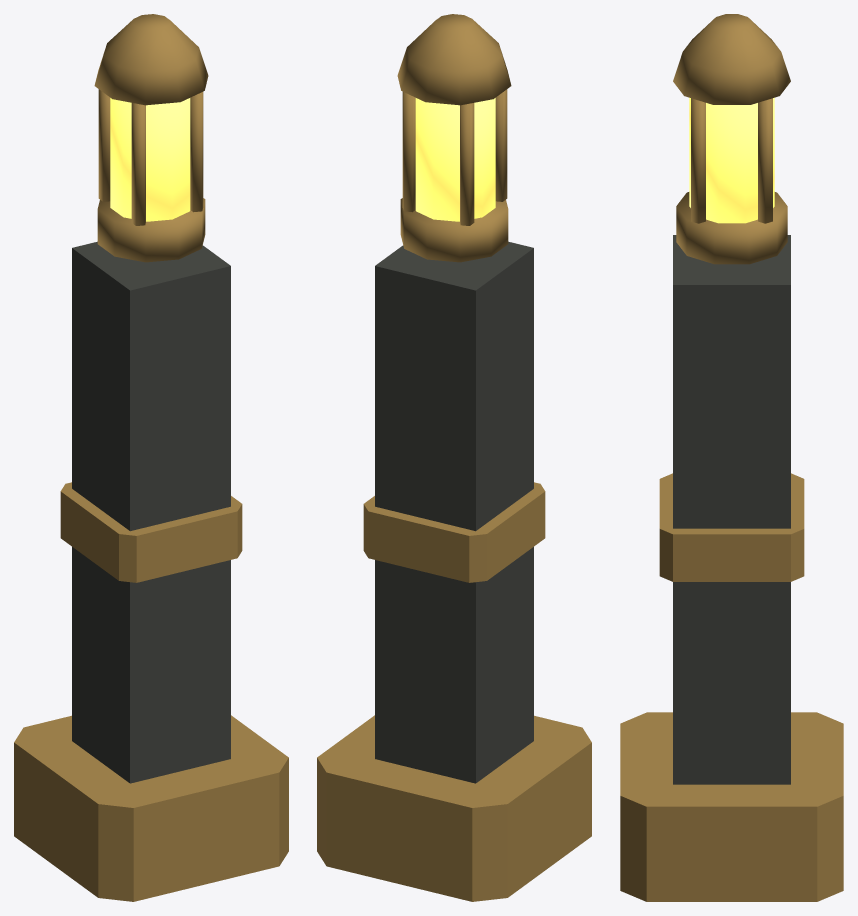
Rendered from b1_post_lamp.glb.
3 renders of one model, left to right at view 1: azimuth 30°, elevation 25°; view 2: azimuth 150°, elevation 25°; view 3: azimuth 270°, elevation 25°, orthographic.
Parts seen in each view (by area): view 1: b1_post_lamp; view 2: b1_post_lamp; view 3: b1_post_lamp.
Part boxes in pixels (x1,y1,x2,y2): b1_post_lamp: (14,14,288,901); b1_post_lamp: (317,14,591,901); b1_post_lamp: (620,14,843,901).
Size of the model in its own units: 0.34 by 1.4 by 0.34.
